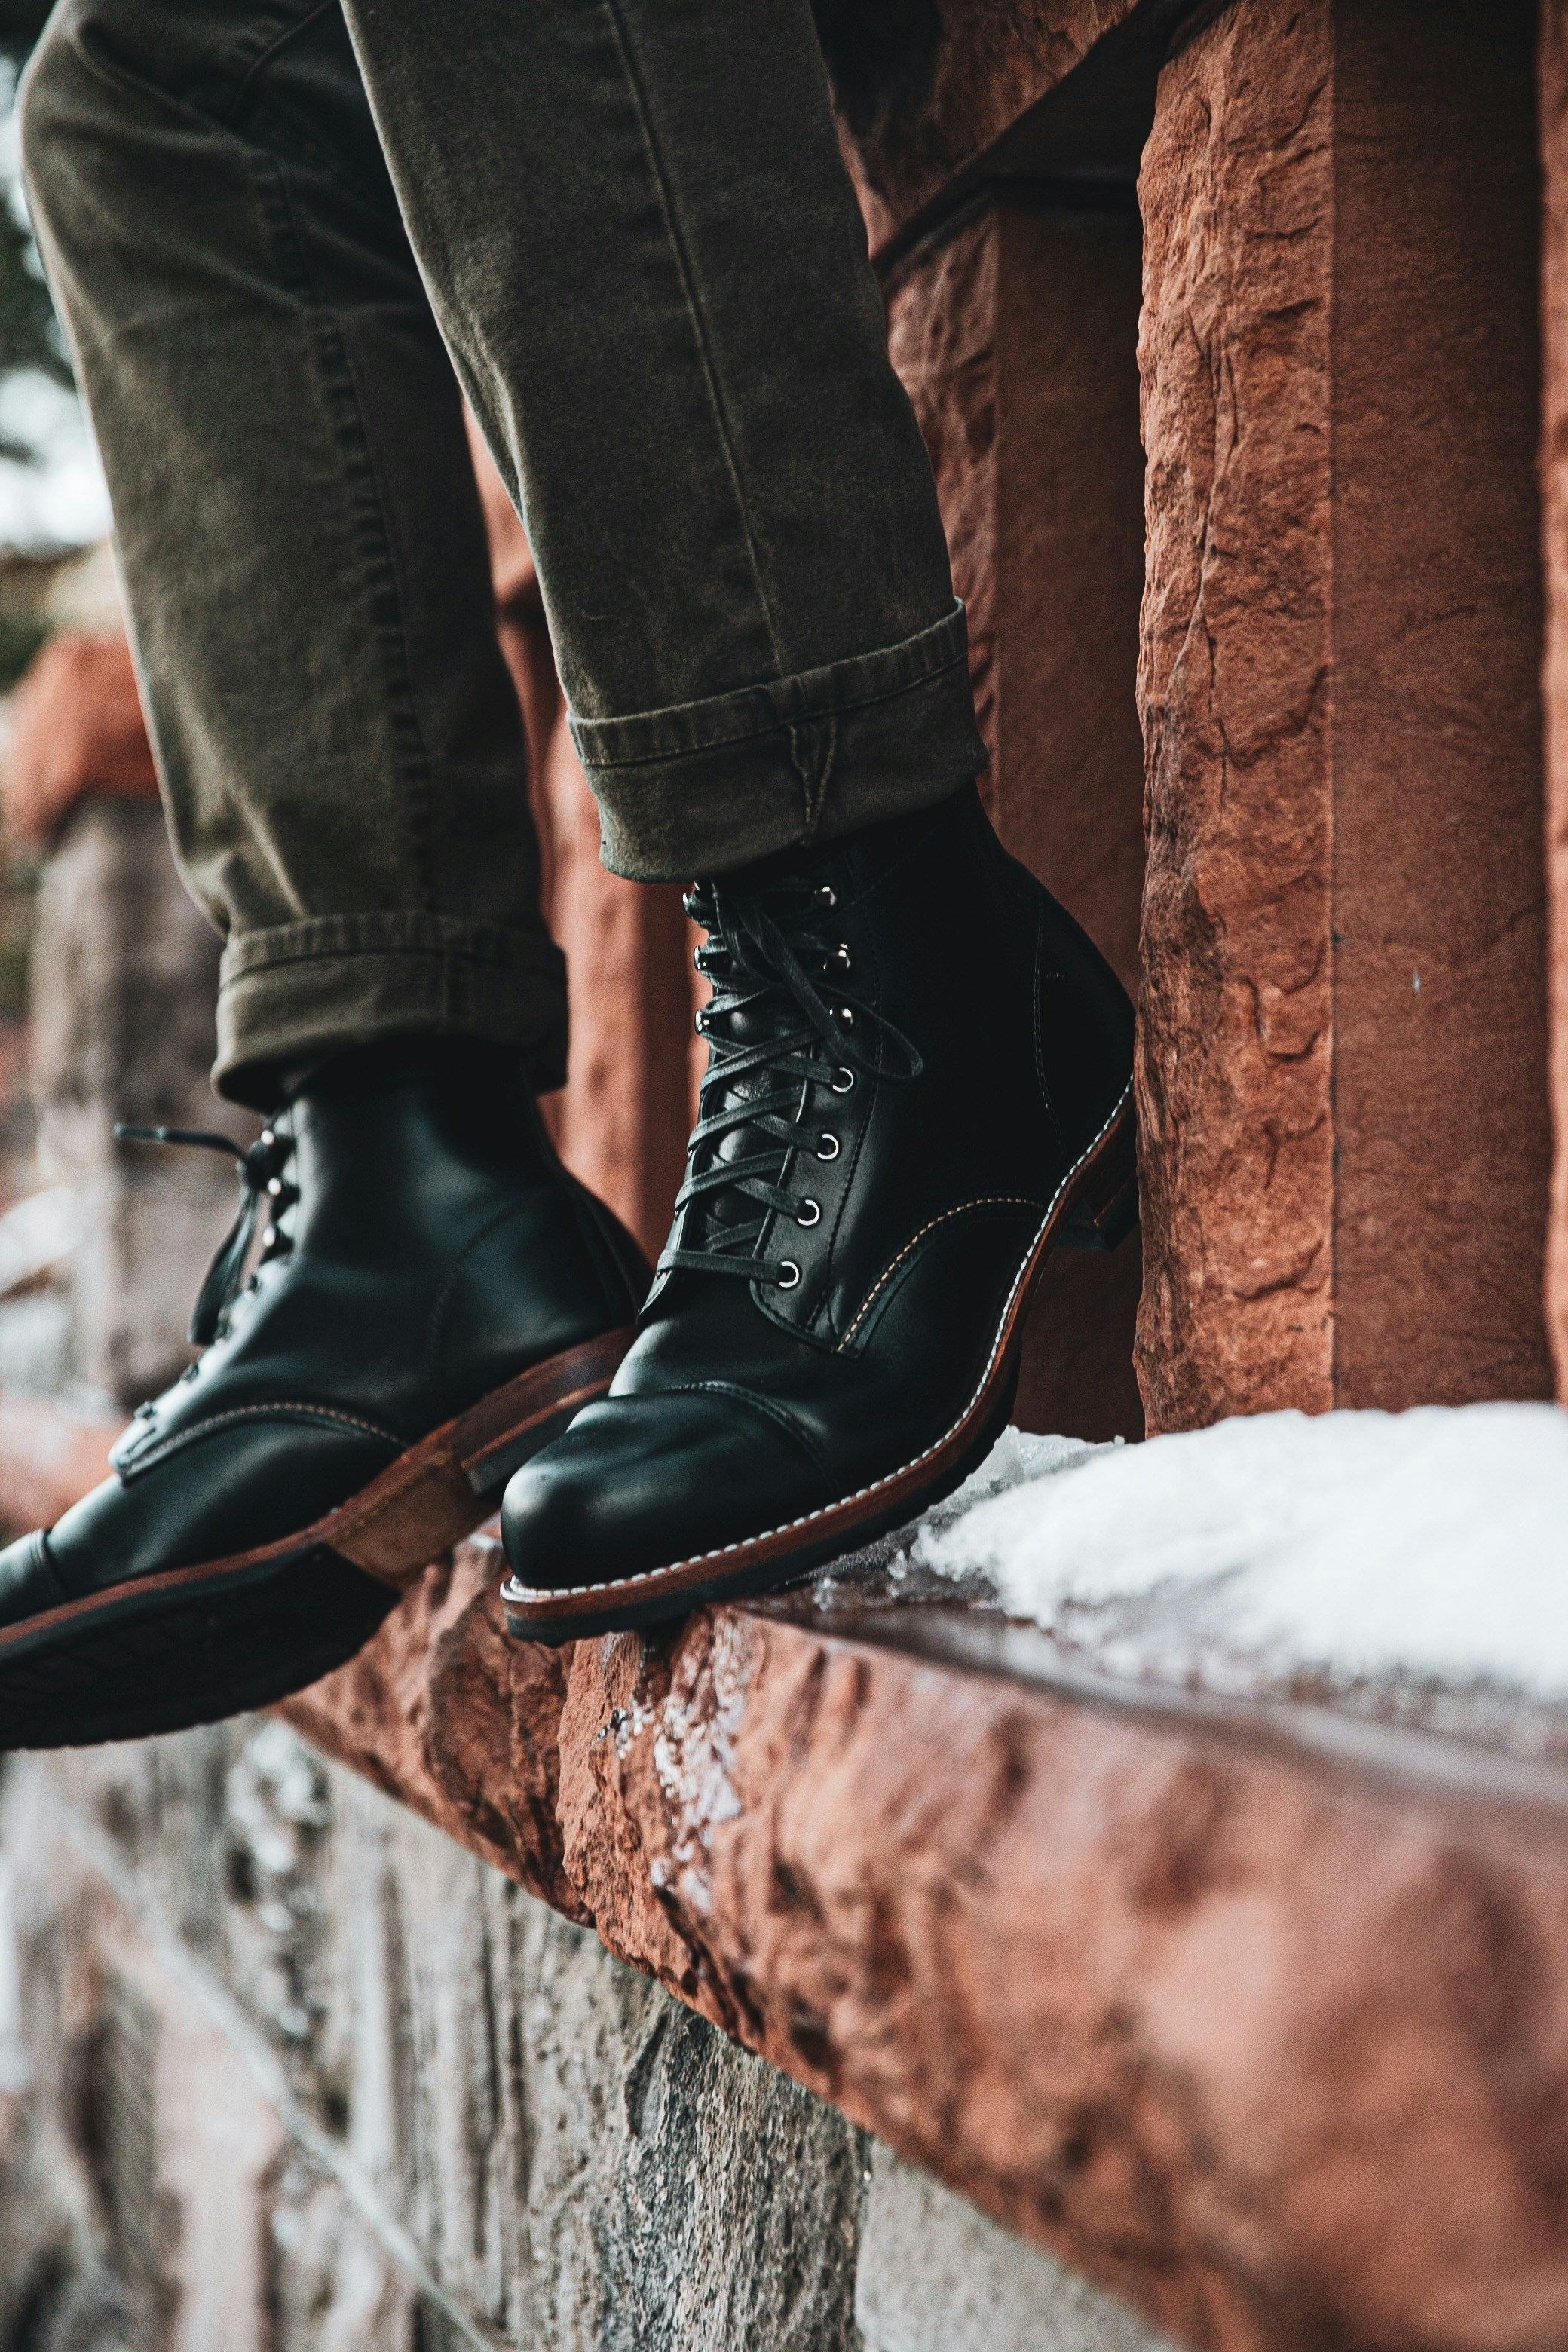Footwear: (488, 842, 1155, 1781), (21, 1054, 474, 1650)
